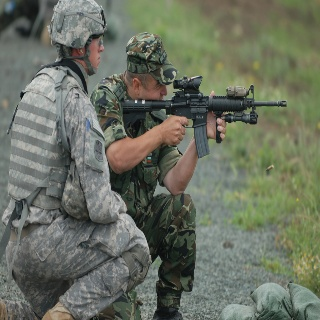rifle: (120, 74, 288, 160)
